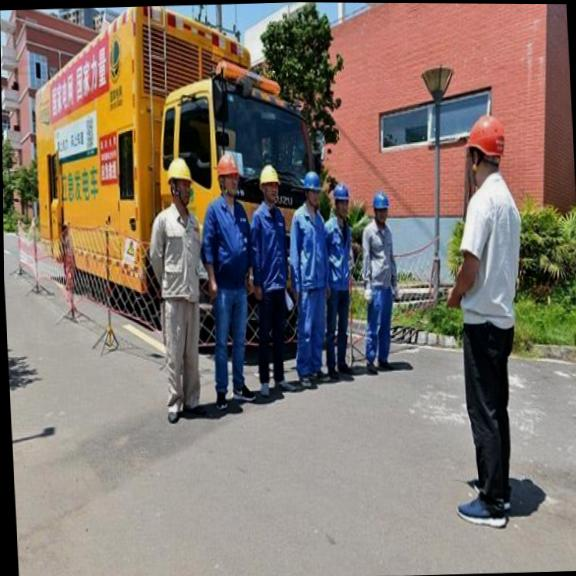no_safety_vest: (464, 182, 520, 331), (365, 225, 395, 288)
